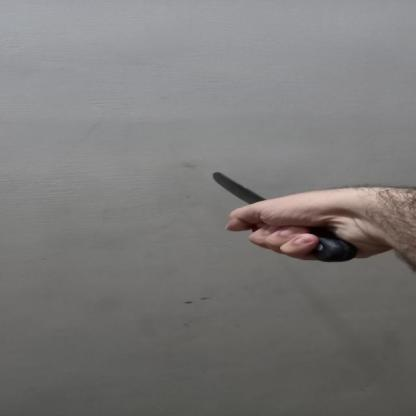Knife: (207, 164, 353, 260)
